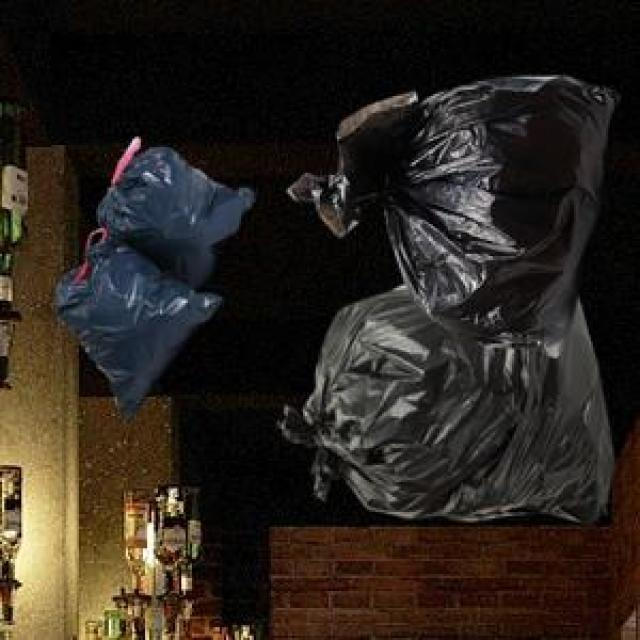waste: (282, 76, 614, 522), (58, 140, 254, 413)
